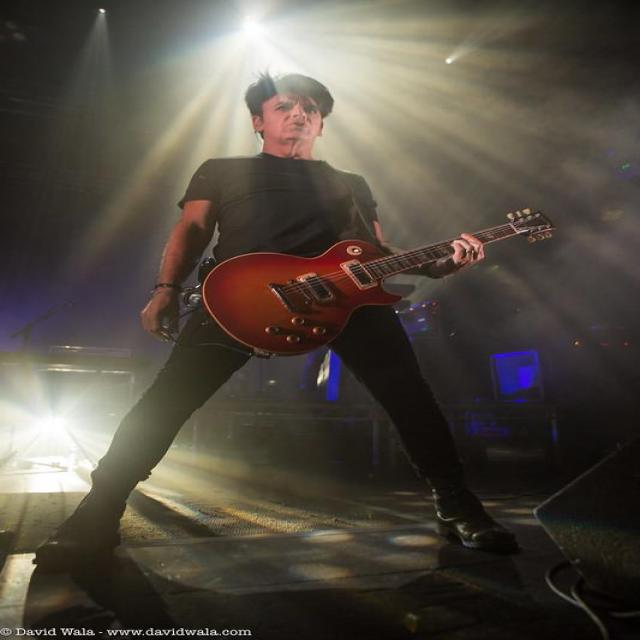guitar: (202, 240, 452, 355)
